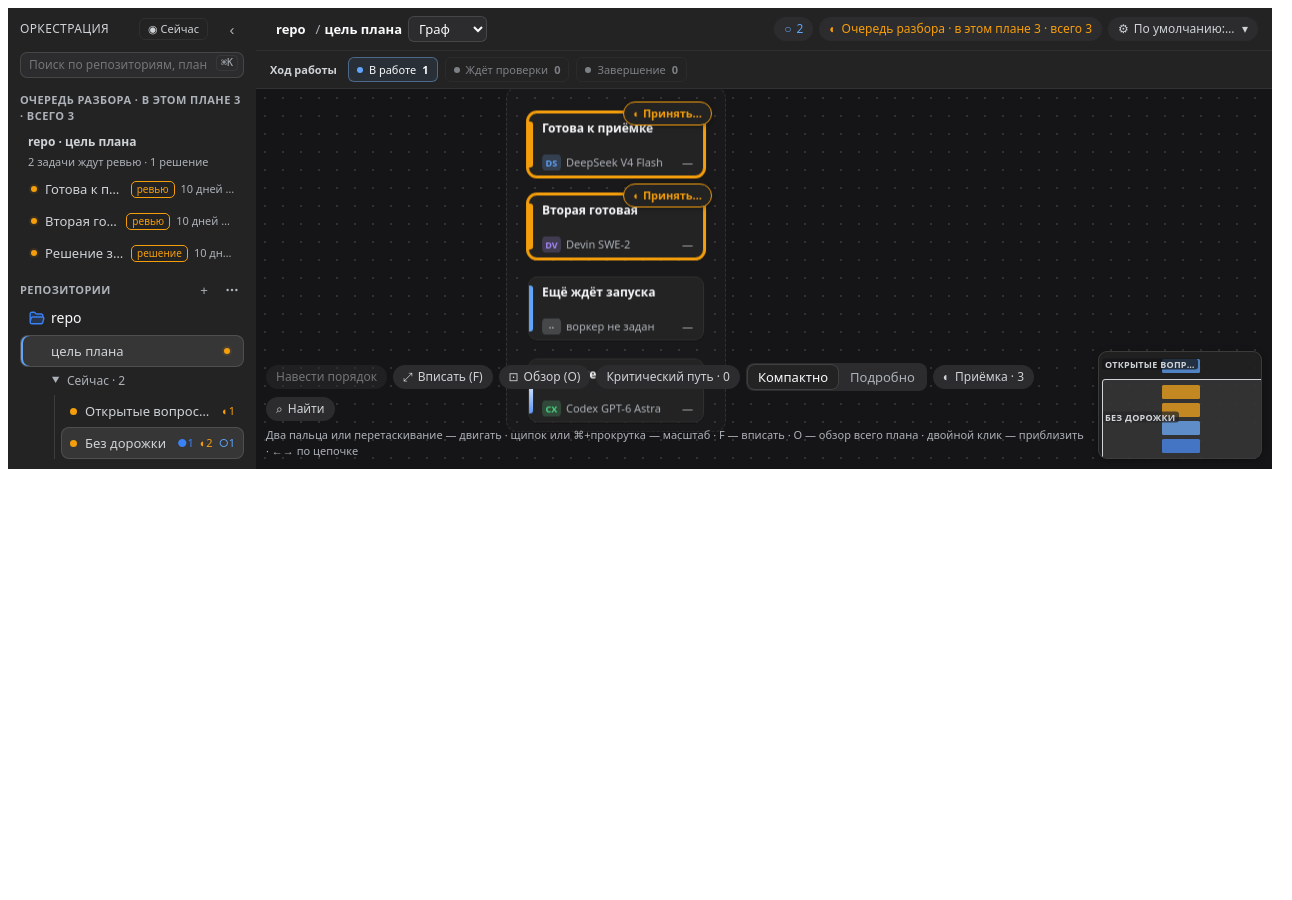
a queue row shows its verdict; a decision row has none (w1b, B03, B05)
Step 1. Click the button "◐ Очередь разбора · в этом плане 3 · всего 3" → (961, 29), box [819, 17, 1102, 41]
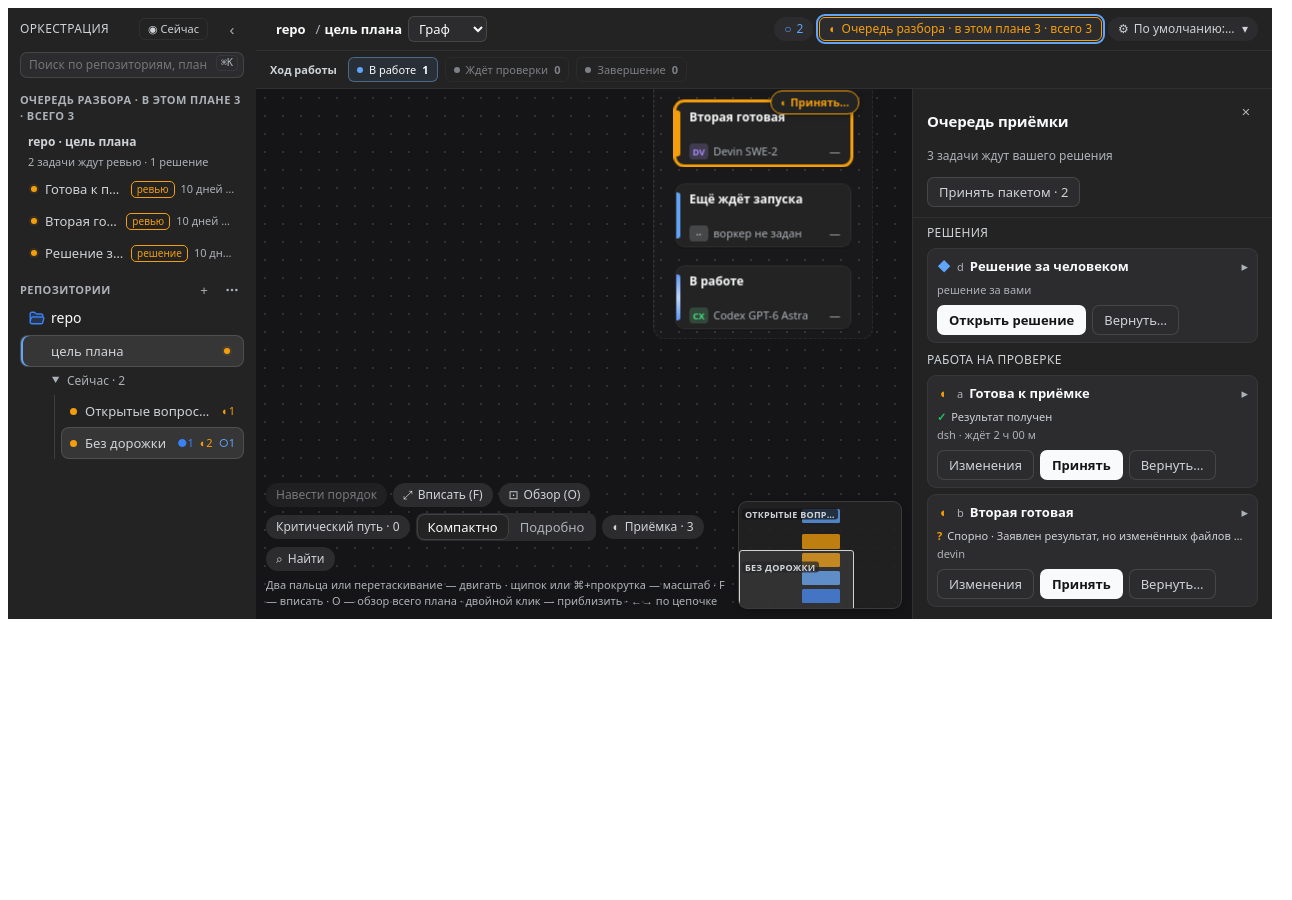
Check: the text "?Спорно · Заявлен результат, но изменённых файлов нет" is shown, box [937, 528, 1248, 544]
Check: the text "Результат получен" is shown, box [951, 409, 1052, 424]
